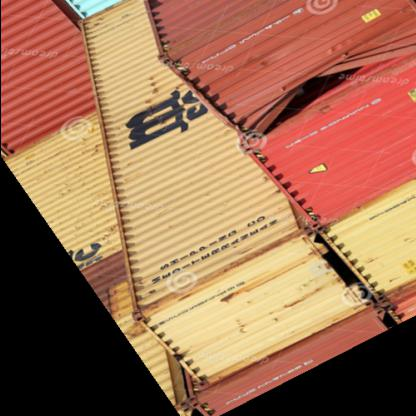Damage: (256, 53, 358, 129)
